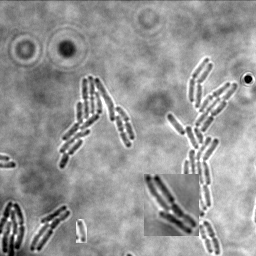Dividing: (204, 219, 222, 255), (199, 223, 215, 253)
Microcolony: (167, 57, 238, 216), (59, 75, 136, 169), (144, 174, 199, 236), (30, 204, 72, 251), (1, 200, 26, 255)
Rod: (76, 219, 87, 243)
